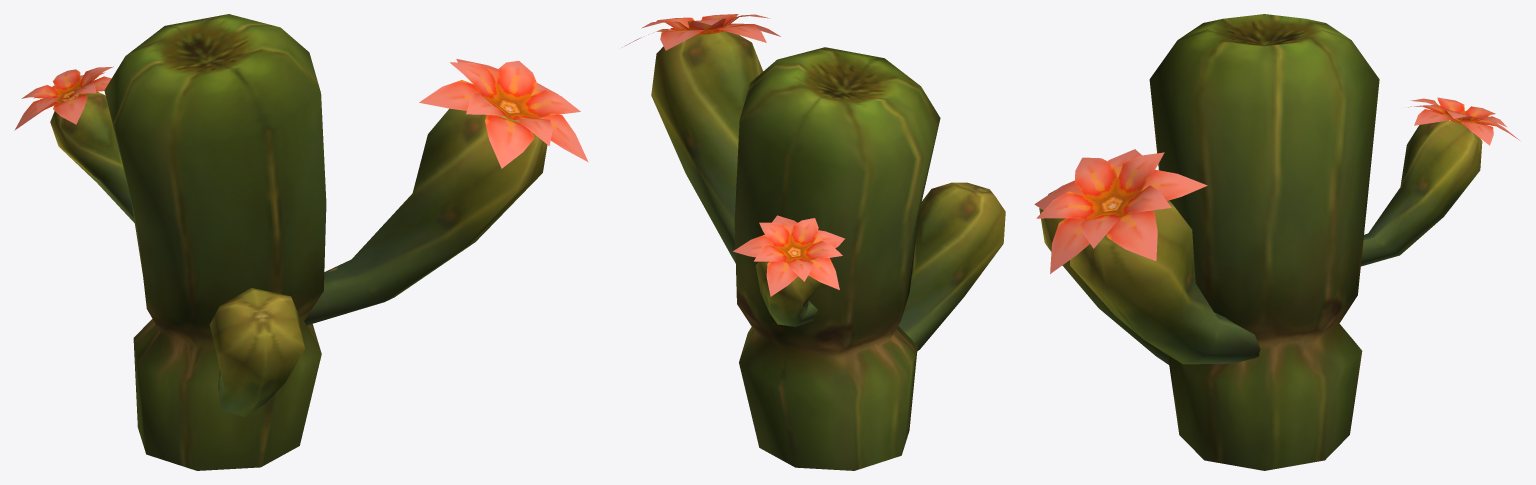
The model's file is FB5_xianrenzhang06.FBX.
The picture shows the model from 3 angles, left to right: view 1: azimuth 30°, elevation 25°; view 2: azimuth 150°, elevation 25°; view 3: azimuth 270°, elevation 25°; orthographic projection. The views are drawn at different scales.
Visible parts, largest first — view 1: FB5_xianrenzhang06; view 2: FB5_xianrenzhang06; view 3: FB5_xianrenzhang06.
Boxes of the visible parts, x1,y1,x2,y2 form: FB5_xianrenzhang06: (14,14,588,470); FB5_xianrenzhang06: (622,14,1005,470); FB5_xianrenzhang06: (1034,14,1519,470).
Size of the model in its own units: 531 by 516 by 561.
1 material, 1 textured.
